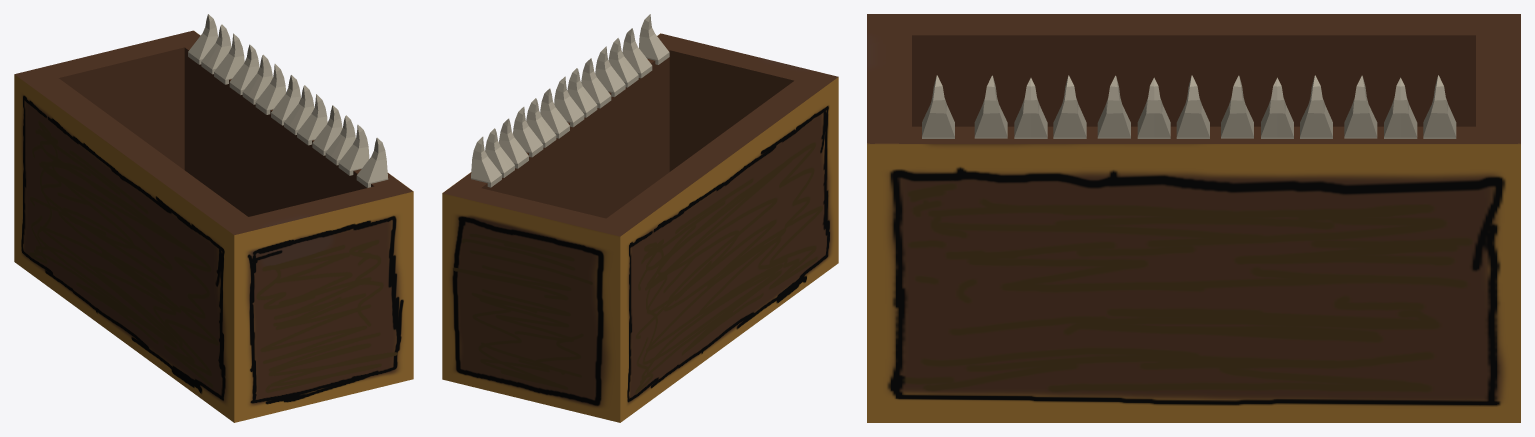
Rendered from Mimic_Bottom.fbx.
3 views of the same model, side by side, from view 1: azimuth 30°, elevation 25°; view 2: azimuth 150°, elevation 25°; view 3: azimuth 270°, elevation 25° (orthographic). The views are drawn at different scales.
Parts seen in each view (by area): view 1: Cube, Cube.001, Cube.003, Cube.002; view 2: Cube, Cube.001, Cube.003, Cube.002; view 3: Cube, Cube.001, Cube.002, Cube.003.
Part boxes in pixels (<box>): Cube: <box>14,30,413,422</box>; Cube.001: <box>188,14,369,175</box>; Cube.003: <box>356,137,388,187</box>; Cube.002: <box>312,105,342,155</box>; Cube: <box>442,33,838,422</box>; Cube.001: <box>471,28,652,187</box>; Cube.003: <box>639,14,669,64</box>; Cube.002: <box>595,46,625,97</box>; Cube: <box>867,14,1520,422</box>; Cube.001: <box>974,75,1456,138</box>; Cube.002: <box>1053,75,1086,138</box>; Cube.003: <box>922,75,954,138</box>.
Size of the model in its own units: 167 by 203 by 355.
4 materials, 4 textured.
